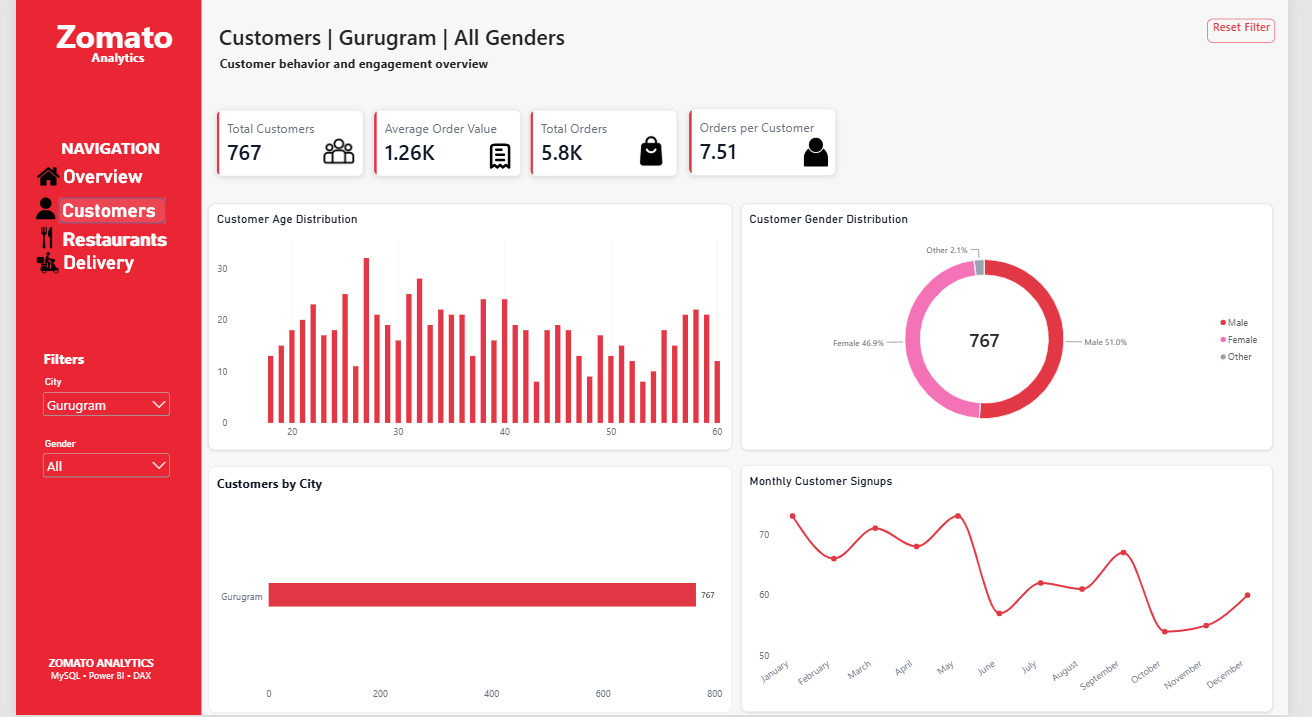

Layout of this report page (visuals, bound fields, positions):
{"tool":"powerbi","page":{"name":"Customers","canvas":[1920,1080],"ordinal":3},"visuals":[{"type":"shape","box":[0,0,279.9,1080.6],"z":0},{"type":"actionButton","title":"Overview","box":[72,249.1,131.7,39.1],"z":1000},{"type":"cardVisual","fields":{"Data":["Customers.Total Customers"]},"box":[301,166.7,222,100],"z":2000},{"type":"cardVisual","fields":{"Data":["Customers.Average Order Value"]},"box":[539,166.7,222,100],"z":3000},{"type":"cardVisual","fields":{"Data":["Customers.Total Orders"]},"box":[776,166.7,222,100],"z":4000},{"type":"cardVisual","fields":{"Data":["Customers.Orders per Customer"]},"box":[1015,164.7,222.3,100.9],"z":5000},{"type":"clusteredBarChart","title":"Customers by City","fields":{"Category":["Customers.City"],"Y":["Customers.Total Customers"]},"box":[290.2,703.9,790,372],"z":6000},{"type":"clusteredColumnChart","title":"Customer Age Distribution","fields":{"Y":["Customers.Total Customers"],"Category":["Customers.Age"]},"box":[290.2,306.7,790,372],"z":7000},{"type":"donutChart","title":"Customer Gender Distribution","fields":{"Category":["Customers.Gender"],"Y":["Customers.Total Customers"]},"box":[1095,306.7,802,372],"z":8000},{"type":"lineChart","title":"Monthly Customer Signups","fields":{"Category":["Customers.Signup_Date.Variation.Date Hierarchy.Year","Customers.Signup_Date.Variation.Date Hierarchy.Quarter","Customers.Signup_Date.Variation.Date Hierarchy.Month","Customers.Signup_Date.Variation.Date Hierarchy.Day"],"Y":["Customers.Total Customers"]},"box":[1095,701.9,802.7,372.6],"z":9000},{"type":"shape","box":[63.8,298.5,162.6,39.1],"z":10000},{"type":"actionButton","title":"Restaurants","box":[72,343.7,170.8,35],"z":11000},{"type":"actionButton","title":"Delivery","box":[72,378.7,170.8,35],"z":12000},{"type":"actionButton","title":"Customers","box":[70,300.5,156.4,39.1],"z":13000},{"type":"actionButton","title":"Overview","box":[72,249.1,144.1,39.1],"z":14000},{"type":"actionButton","title":"Customers","box":[70,300.5,170.8,30.9],"z":15000},{"type":"actionButton","title":"Delivery","box":[72,378.7,170,34],"z":16000},{"type":"actionButton","title":"Restaurants","box":[70,343.7,170.8,32.9],"z":17000},{"type":"textbox","box":[28.8,20.6,240.8,84.4],"z":18000},{"type":"textbox","box":[28.8,74.1,251.1,70],"z":19000},{"type":"slicer","fields":{"Values":["Dim_Cit.City"]},"box":[35,568.1,201,69],"z":20000},{"type":"slicer","fields":{"Values":["Customers.Gender"]},"box":[35,660.7,201,69],"z":21000},{"type":"textbox","box":[67,208,168.8,37],"z":22000},{"type":"cardVisual","fields":{"Data":["Customers.Customers Page Title"]},"box":[290.2,0,578.4,109.1],"z":23000},{"type":"textbox","box":[308,83,422,37],"z":24000},{"type":"actionButton","title":"Reset Filter","box":[1797.4,28.1,102.1,35.7],"z":25000},{"type":"textbox","box":[48.9,988.7,205.9,79.5],"z":26000},{"type":"image","box":[934.5,197.6,49.4,59.7],"z":27000},{"type":"image","box":[465,197.6,46,60],"z":28000},{"type":"image","box":[708.1,205.8,46,60],"z":29000},{"type":"image","box":[1183,199.7,49,59],"z":30000},{"type":"image","box":[24.7,249.1,48.9,34],"z":31000},{"type":"image","box":[24.7,298.5,41.2,32.9],"z":32000},{"type":"image","box":[28.8,341.7,36,34],"z":33000},{"type":"image","box":[30.9,378.7,36,34],"z":34000},{"type":"textbox","box":[41,526,80.3,45.3],"z":35000}]}

Visuals, with their boxes on the page's 1920x1080 design canvas (x1, y1, x2, y2). These are canvas units, not pixel positions in the 1312x717 screenshot, which may show the page scaled, cropped or inside an application window:
shape: locate(0, 0, 280, 1081)
"Overview" actionButton: locate(72, 249, 204, 288)
cardVisual - Customers.Total Customers: locate(301, 167, 523, 267)
cardVisual - Customers.Average Order Value: locate(539, 167, 761, 267)
cardVisual - Customers.Total Orders: locate(776, 167, 998, 267)
cardVisual - Customers.Orders per Customer: locate(1015, 165, 1237, 266)
"Customers by City" clusteredBarChart: locate(290, 704, 1080, 1076)
"Customer Age Distribution" clusteredColumnChart: locate(290, 307, 1080, 679)
"Customer Gender Distribution" donutChart: locate(1095, 307, 1897, 679)
"Monthly Customer Signups" lineChart: locate(1095, 702, 1898, 1074)
shape: locate(64, 298, 226, 338)
"Restaurants" actionButton: locate(72, 344, 243, 379)
"Delivery" actionButton: locate(72, 379, 243, 414)
"Customers" actionButton: locate(70, 300, 226, 340)
"Overview" actionButton: locate(72, 249, 216, 288)
"Customers" actionButton: locate(70, 300, 241, 331)
"Delivery" actionButton: locate(72, 379, 242, 413)
"Restaurants" actionButton: locate(70, 344, 241, 377)
textbox: locate(29, 21, 270, 105)
textbox: locate(29, 74, 280, 144)
slicer - Dim_Cit.City: locate(35, 568, 236, 637)
slicer - Customers.Gender: locate(35, 661, 236, 730)
textbox: locate(67, 208, 236, 245)
cardVisual - Customers.Customers Page Title: locate(290, 0, 869, 109)
textbox: locate(308, 83, 730, 120)
"Reset Filter" actionButton: locate(1797, 28, 1900, 64)
textbox: locate(49, 989, 255, 1068)
image: locate(934, 198, 984, 257)
image: locate(465, 198, 511, 258)
image: locate(708, 206, 754, 266)
image: locate(1183, 200, 1232, 259)
image: locate(25, 249, 74, 283)
image: locate(25, 298, 66, 331)
image: locate(29, 342, 65, 376)
image: locate(31, 379, 67, 413)
textbox: locate(41, 526, 121, 571)
